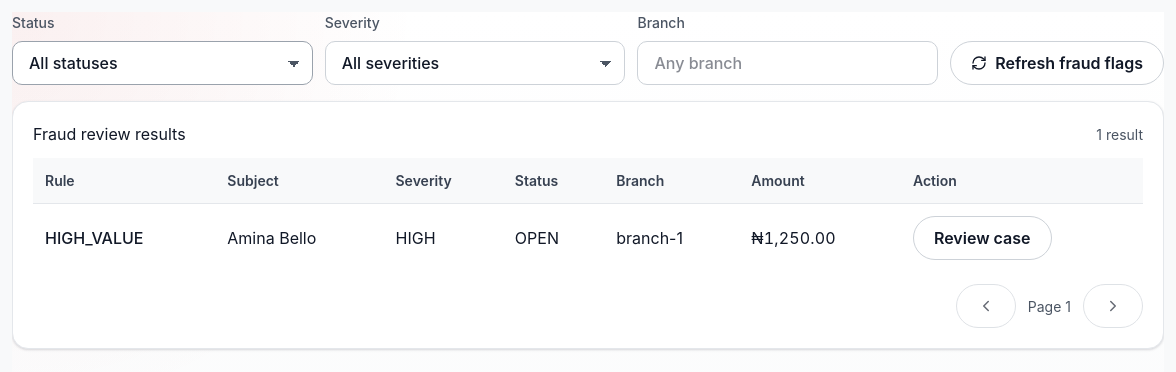
FraudFlagsPanel › filters records by severity without hiding the results table
Expected: the row "HIGH_VALUE Amina Bello" is shown, top-left (33, 204), bottom-right (1143, 272)
Step 1. Select "Low" in the dropdown named "Fraud severity filter" → (475, 63), box top-left (325, 41), bottom-right (625, 85)
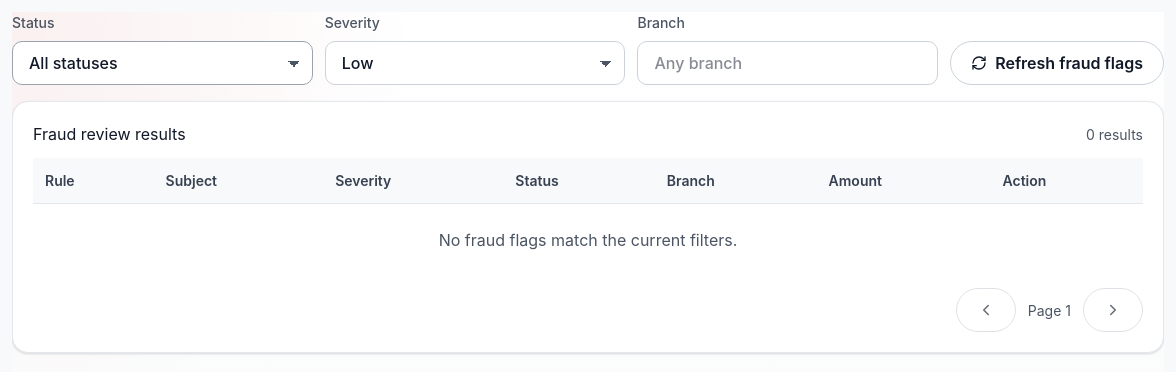
Expected: the table is shown, top-left (33, 158), bottom-right (1143, 276)
Expected: the text "0 results" is shown, top-left (1086, 124), bottom-right (1143, 145)
Expected: the text "No fraud flags match the current filters." is shown, top-left (33, 204), bottom-right (1143, 276)
